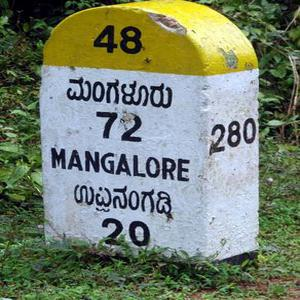kmstone: (40, 1, 258, 262)
